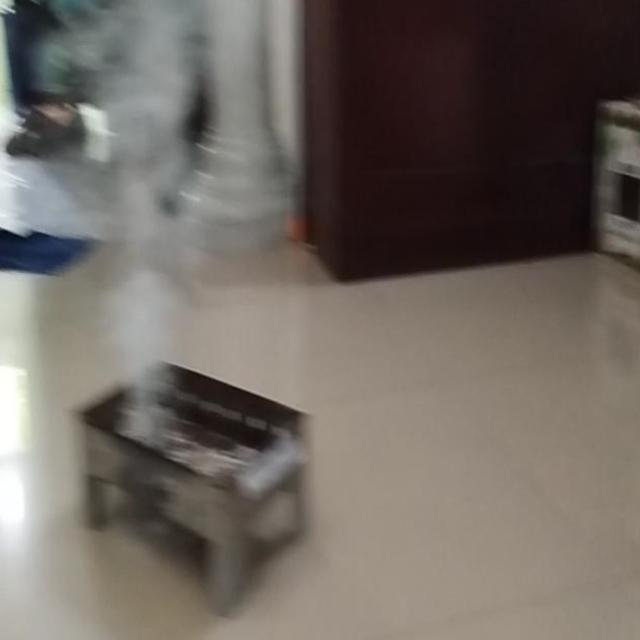fire: (92, 0, 198, 367)
